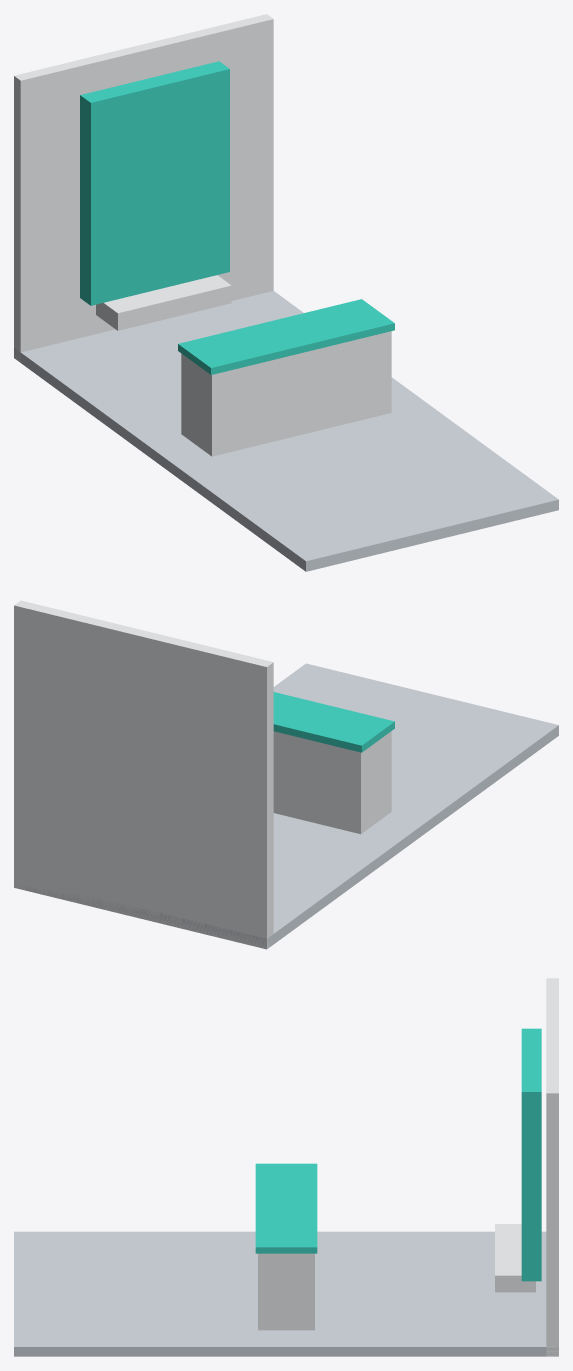
The picture shows the model from 3 angles, top to bottom: view 1: azimuth 30°, elevation 25°; view 2: azimuth 150°, elevation 25°; view 3: azimuth 270°, elevation 25°; orthographic projection. The views are drawn at different scales.
Visible parts, largest first — view 1: Exhibition Booth Concept; view 2: Exhibition Booth Concept; view 3: Exhibition Booth Concept.
Boxes of the visible parts, x1=… form: Exhibition Booth Concept: x1=14, y1=14, x2=558, y2=571; Exhibition Booth Concept: x1=14, y1=600, x2=558, y2=949; Exhibition Booth Concept: x1=14, y1=978, x2=558, y2=1356.
Size of the model in its own units: 3 by 3.2 by 6.
